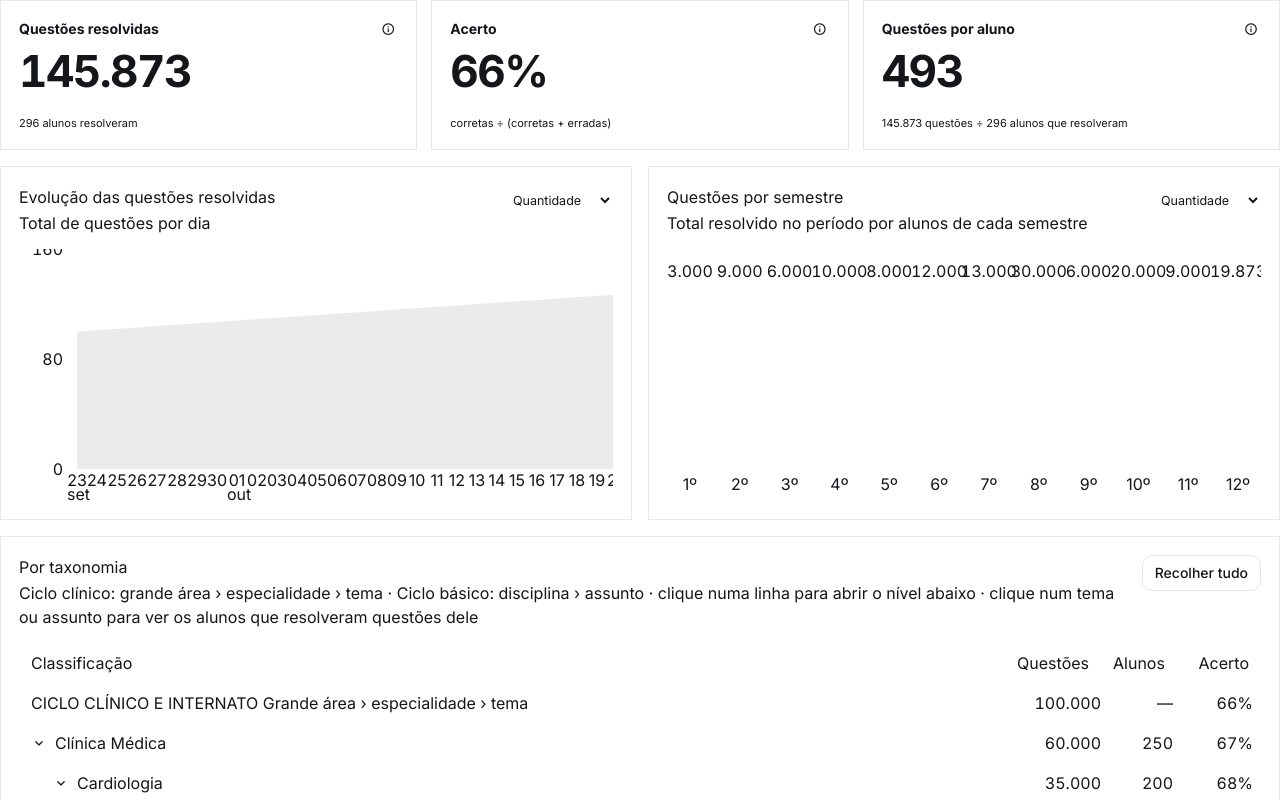
Test case: QuestoesEngajamento — Evolução e Por semestre (§12.3) › Evolução: por dia até 31 dias, por mês acima disso › % de acerto também vira por dia
The image size is (1280, 800).
Select "% de acerto" in the dropdown named "Métrica da evolução" at (556, 200), box [498,185,613,215]
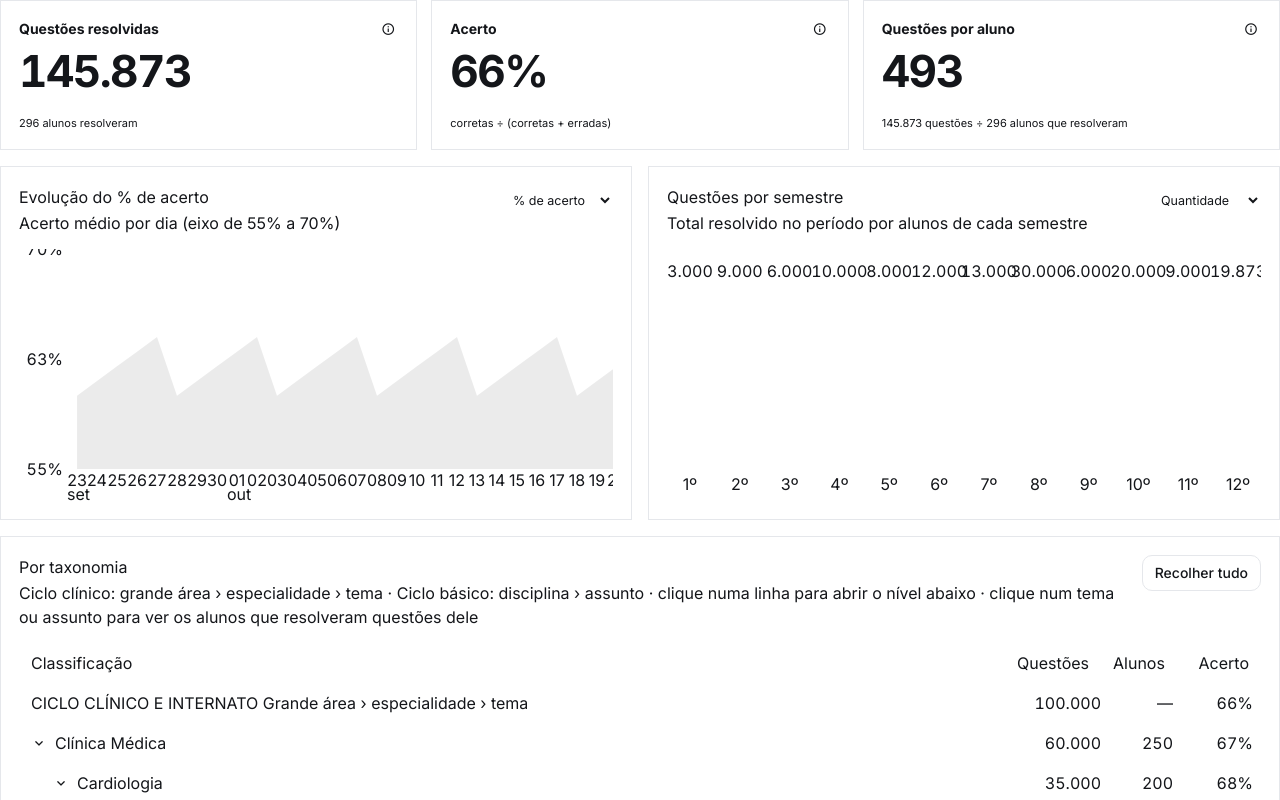
Check: the text "Acerto médio por dia (eixo de 55% a 70%)" is shown, box [19,213,340,233]
